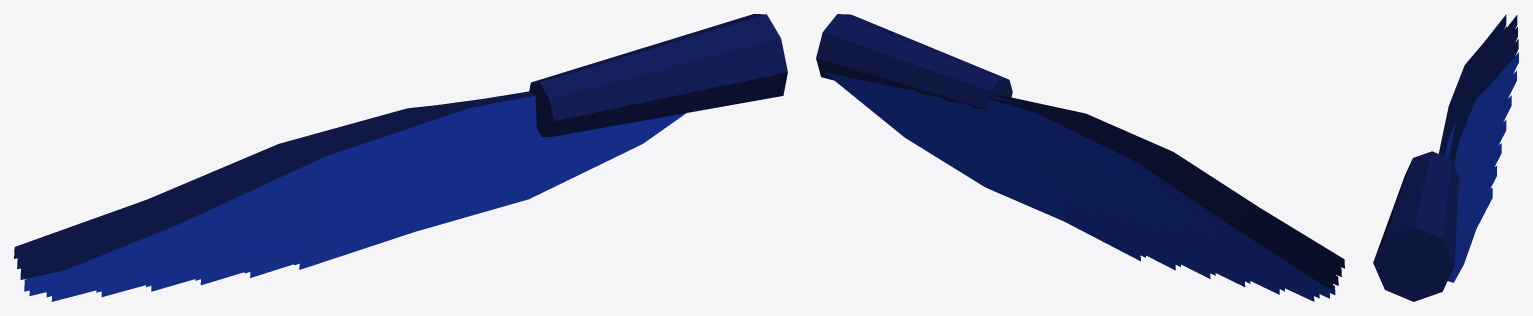
Rendered from sb_wing_out.glb.
3 views of the same model, side by side, from view 1: azimuth 30°, elevation 25°; view 2: azimuth 150°, elevation 25°; view 3: azimuth 270°, elevation 25° (orthographic). The views are drawn at different scales.
Parts seen in each view (by area): view 1: teil1, teil0; view 2: teil1, teil0; view 3: teil0, teil1.
Part boxes in pixels (x1=…): teil1: x1=24, y1=95, x2=686, y2=301; teil0: x1=14, y1=14, x2=787, y2=279; teil1: x1=824, y1=72, x2=1335, y2=301; teil0: x1=816, y1=14, x2=1344, y2=288; teil0: x1=1373, y1=14, x2=1518, y2=301; teil1: x1=1445, y1=52, x2=1518, y2=282.
Size of the model in its own units: 0.1612 by 0.0391 by 0.0321.
